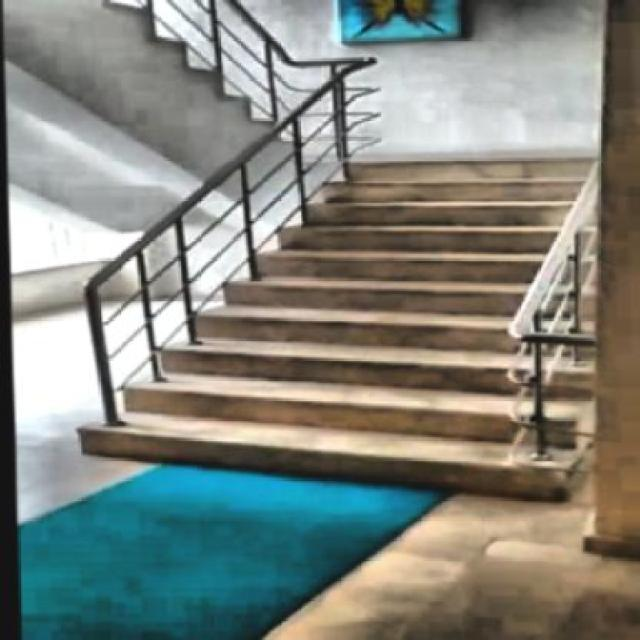stair: (77, 146, 617, 492)
